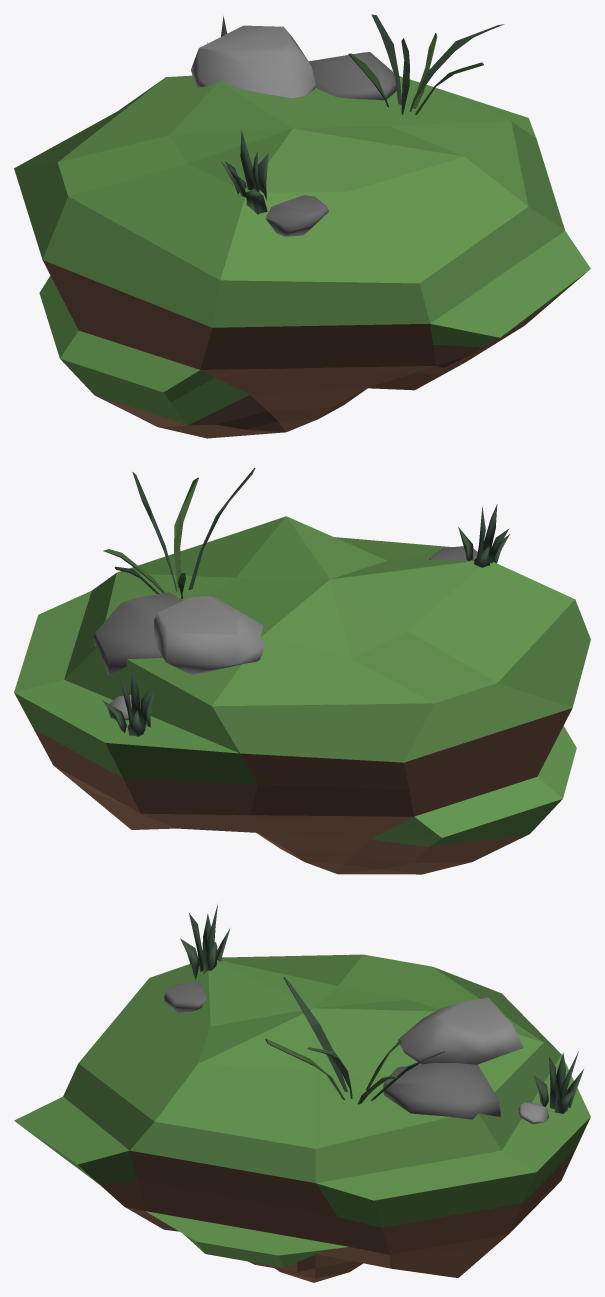
The model's file is Platform_Pirates_Alt.glb.
3 views of the same model, one above another, from view 1: azimuth 30°, elevation 25°; view 2: azimuth 150°, elevation 25°; view 3: azimuth 270°, elevation 25° (orthographic). The views are drawn at different scales.
Visible parts, largest first — view 1: Pirate_Platform_02; view 2: Pirate_Platform_02; view 3: Pirate_Platform_02.
Part boxes in pixels (left/top/right/bottom): Pirate_Platform_02: left=14, top=14, right=590, bottom=438; Pirate_Platform_02: left=14, top=467, right=590, bottom=874; Pirate_Platform_02: left=14, top=904, right=590, bottom=1282.
Size of what is drawn, in the model's own units: 2.1 by 1.48 by 2.19.
Materials: 1 (1 with a texture image).
